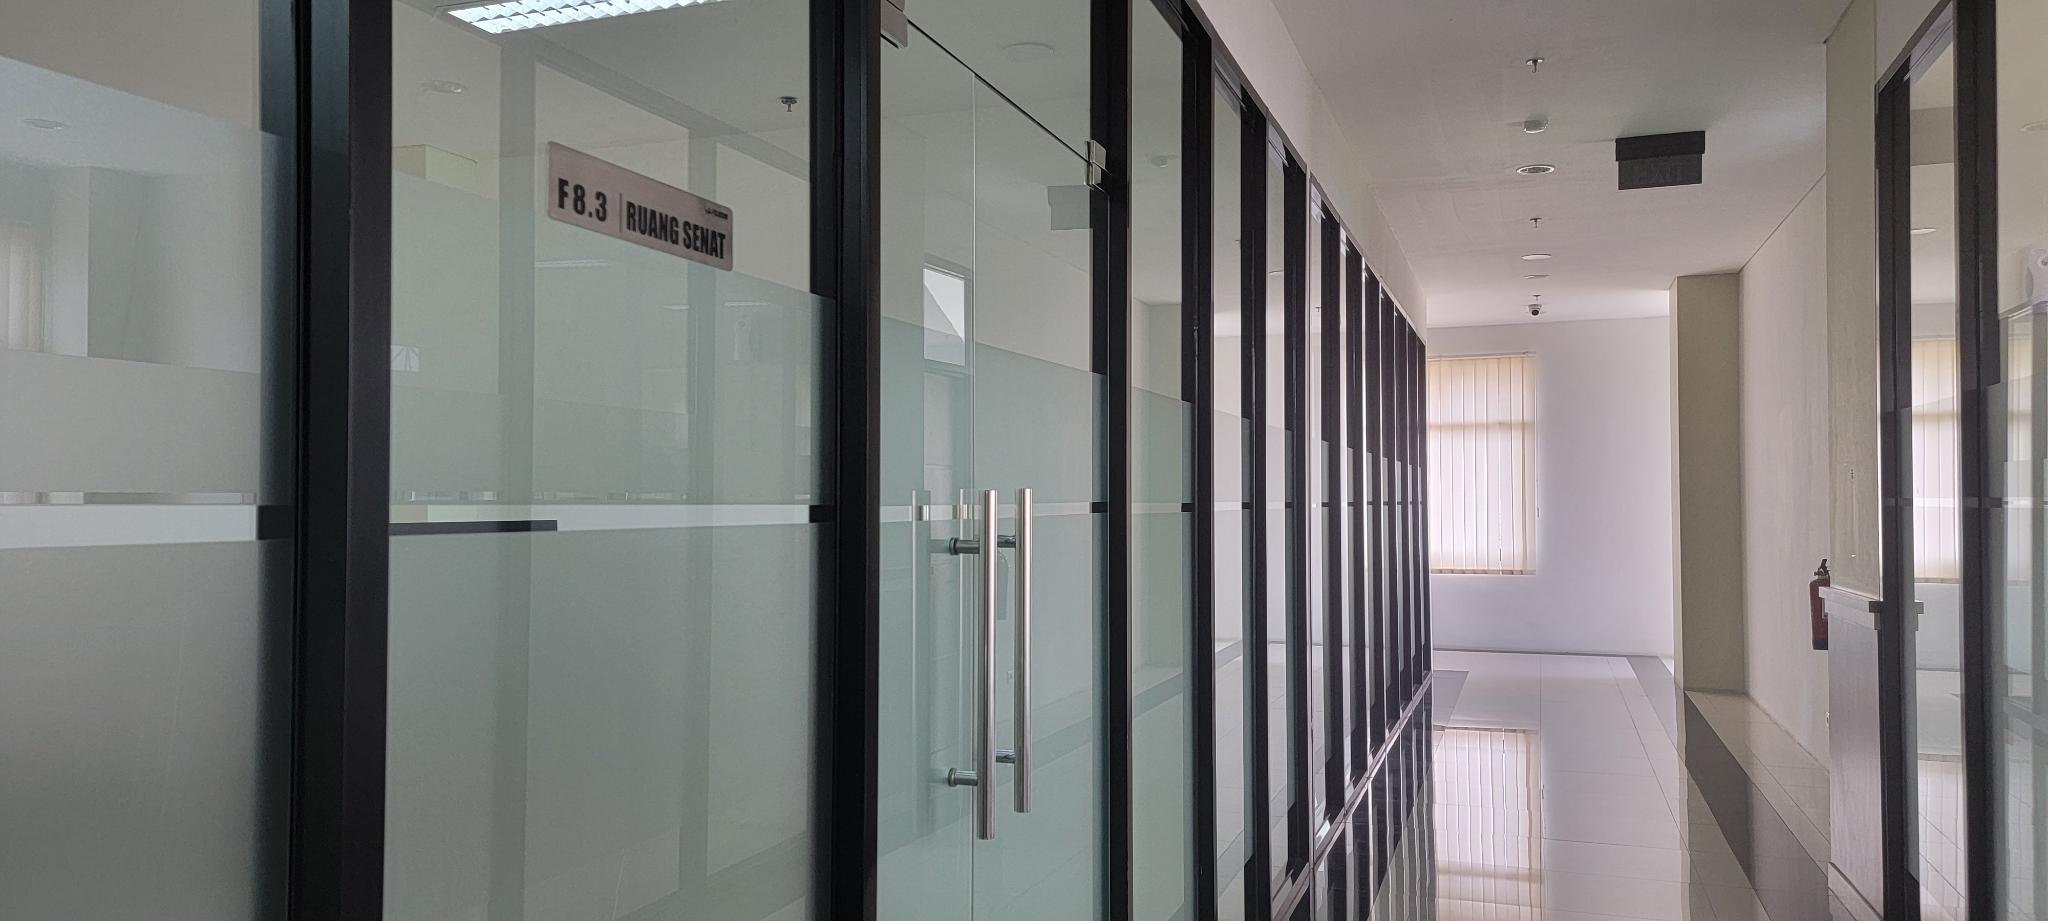plate: (545, 138, 735, 274)
